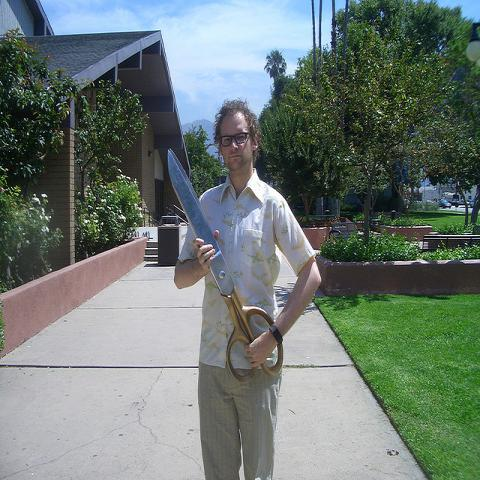car: (439, 200, 452, 209), (460, 200, 470, 205), (470, 200, 474, 208)
truck: (444, 192, 462, 208)
